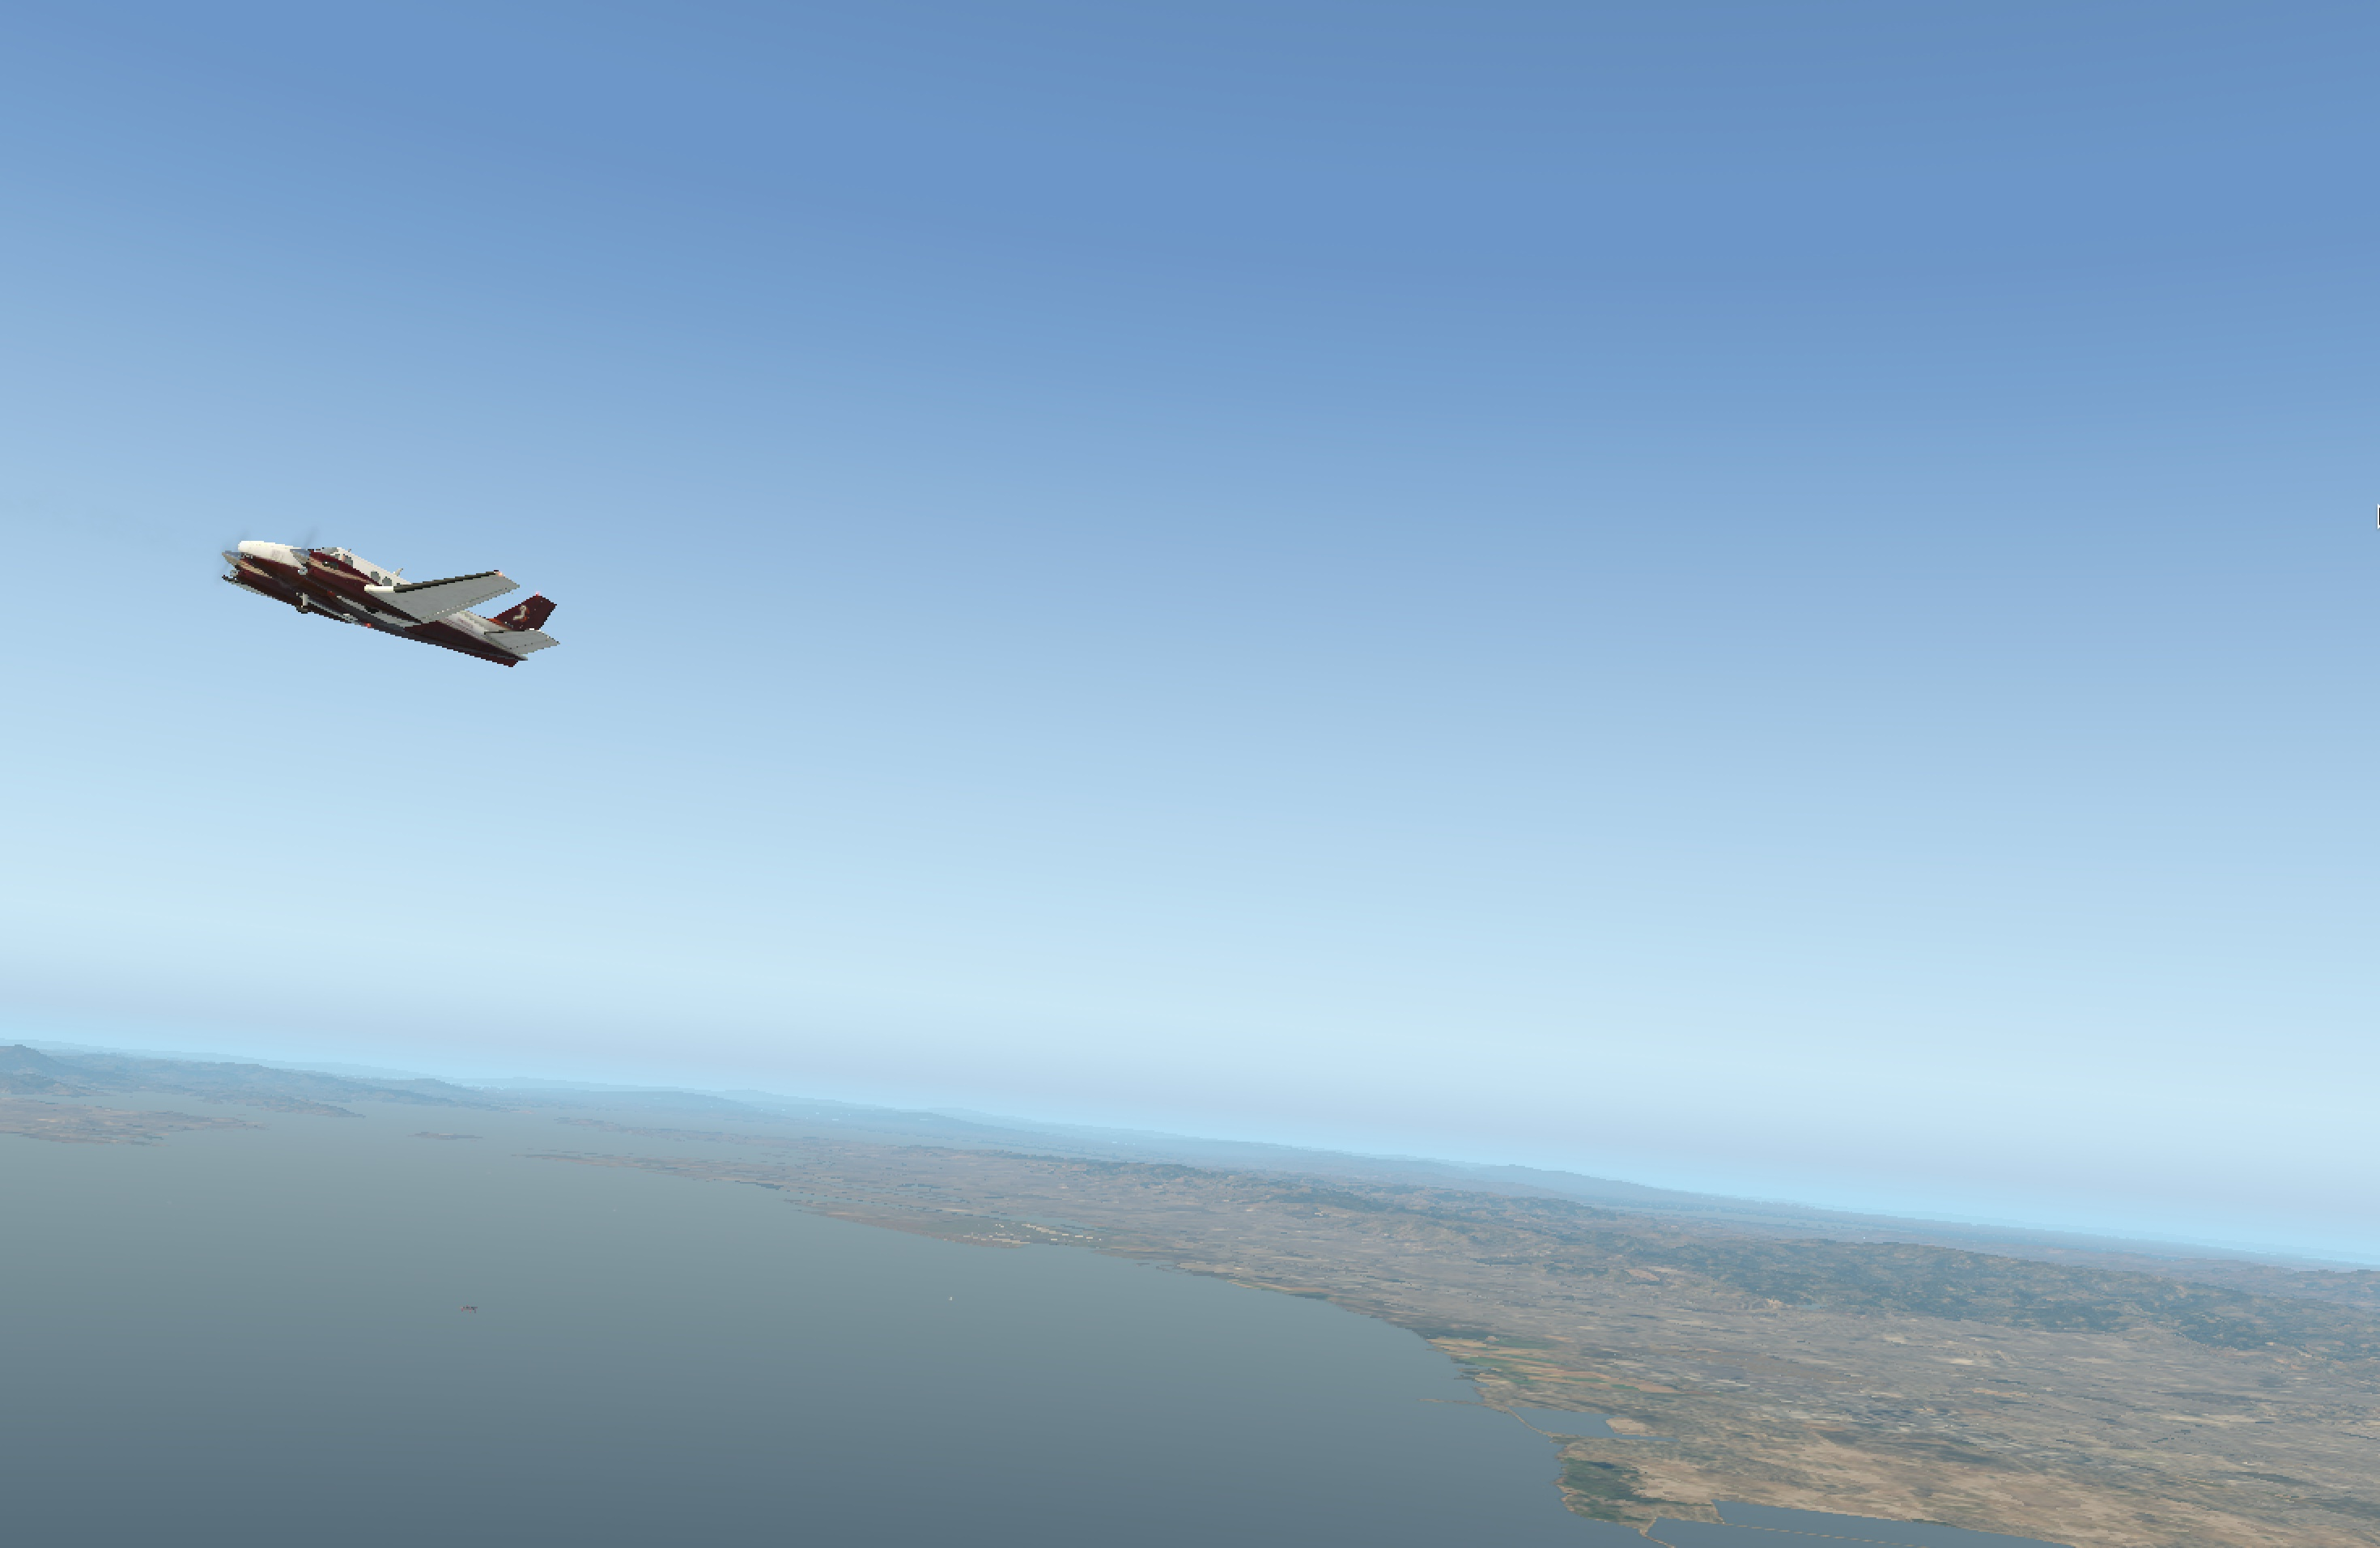aircraft: (101, 515, 572, 692)
